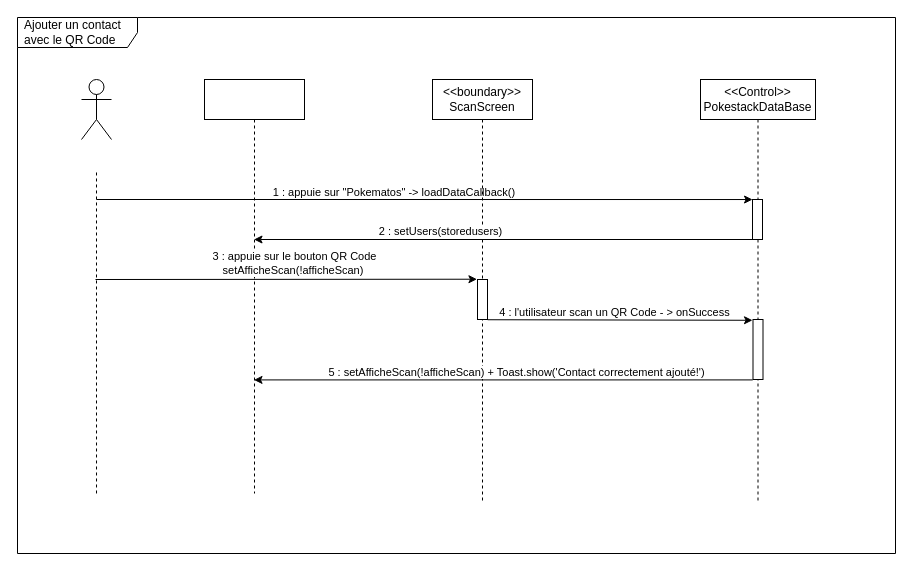
The diagram is 913 pixels wide and 571 high, and some of its shapes have lost their labels. Here are the shapes that lost their labels. From the top down, the box of each, then its label:
(80, 78, 112, 140): : utilisateur
(204, 78, 304, 494): <<boundary>> Pokematos
